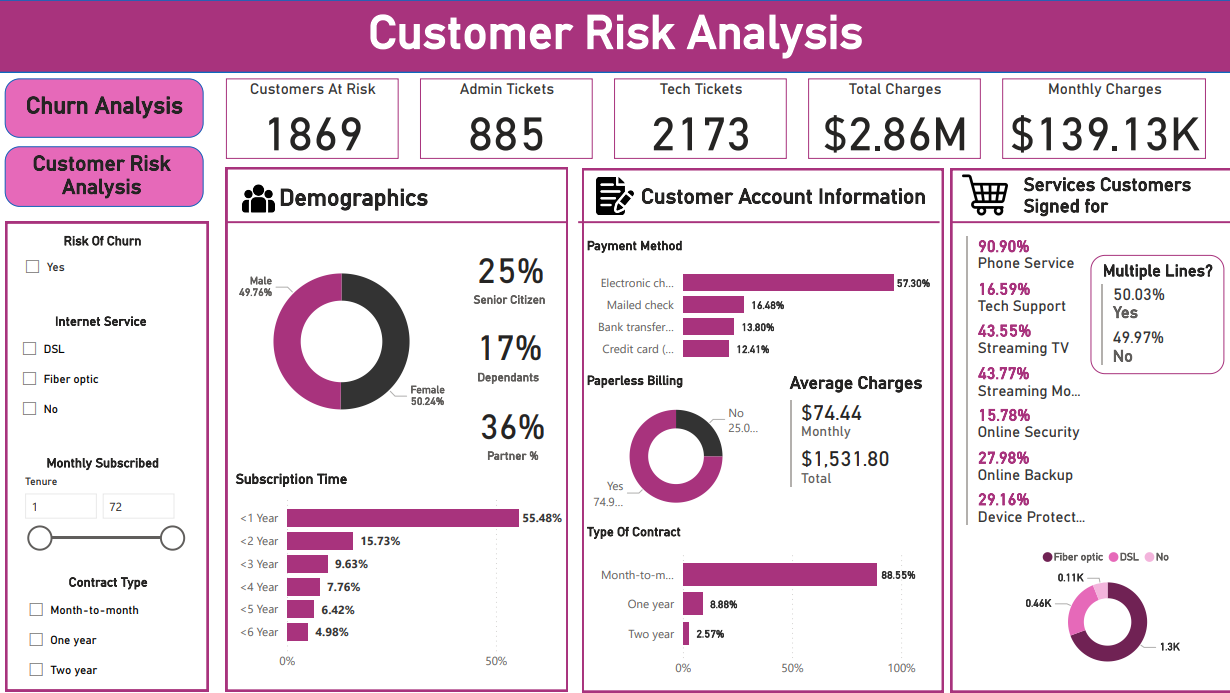

What the dashboard file says about the page in this screenshot:
{"tool":"powerbi","page":{"name":"Risk Analysis","canvas":[1280,720],"ordinal":1},"visuals":[{"type":"shape","box":[0,0,1280,75.1],"z":0},{"type":"textbox","box":[0,0,1280,75.1],"z":1000},{"type":"card","title":"Customers At Risk","fields":{"Values":["Count(01 Churn-Dataset.customerID)"]},"box":[237.5,81.2,177.5,82.5],"z":2000},{"type":"slicer","title":"Contract Type","fields":{"Values":["Churn-Dataset.Contract"]},"box":[22.5,592.5,187.5,127.5],"z":3000},{"type":"shape","box":[10,81.2,205,61.2],"z":4000},{"type":"textbox","box":[22.5,90,180,45],"z":5000},{"type":"shape","box":[10,151.2,205,62.5],"z":6000},{"type":"textbox","box":[10,151.2,200,62.5],"z":7000},{"type":"donutChart","fields":{"Series":["Churn-Dataset.gender"],"Y":["CountNonNull(Churn-Dataset.gender)"]},"box":[238.8,241.2,236.2,222.5],"z":8000},{"type":"donutChart","title":"Paperless Billing","fields":{"Y":["CountNonNull(Churn-Dataset.PaperlessBilling)"],"Series":["Churn-Dataset.PaperlessBilling"]},"box":[605,385,193.8,156.2],"z":9000},{"type":"clusteredBarChart","title":"Type Of Contract","fields":{"Category":["Churn-Dataset.Contract"],"Y":["CountNonNull(Churn-Dataset.customerID)"]},"box":[605,541.2,363.8,166.2],"z":10000},{"type":"donutChart","fields":{"Y":["CountNonNull(Churn-Dataset.InternetService)"],"Category":["Churn-Dataset.InternetService"]},"box":[1046.2,555,201.2,145],"z":11000},{"type":"multiRowCard","fields":{"Values":["Churn-Dataset.Phone Service %","Churn-Dataset.Tech Support %","Churn-Dataset.Streaming TV %","Churn-Dataset.Streaming Movie %","Churn-Dataset.Online Security %","Churn-Dataset.Online Backup %","Churn-Dataset.Device Protection %"]},"box":[996.2,238.8,135,316.2],"z":12000},{"type":"card","fields":{"Values":["Churn-Dataset.Senior Citizen %"]},"box":[472.5,240,117.5,85],"z":13000},{"type":"card","fields":{"Values":["Churn-Dataset.Dependants %"]},"box":[472.3,320,117,85],"z":14000},{"type":"card","fields":{"Values":["Churn-Dataset.Partner %"]},"box":[474.8,401.2,117.5,85],"z":15000},{"type":"barChart","title":"Payment Method ","fields":{"Category":["Churn-Dataset.PaymentMethod"],"Y":["CountNonNull(Churn-Dataset.PaymentMethod)"]},"box":[605,246.2,363.8,137.5],"z":16000},{"type":"multiRowCard","title":"Average Charges","fields":{"Values":["Avg(Churn-Dataset.MonthlyCharges)","Avg(Churn-Dataset.TotalCharges)"]},"box":[813.8,383.8,181.2,133.8],"z":17000},{"type":"barChart","title":"Subscription Time","fields":{"Category":["Churn-Dataset.Tenure(In Years)"],"Y":["CountNonNull(Churn-Dataset.Churn)"]},"box":[242.5,486.2,358.8,213.8],"z":18000},{"type":"slicer","title":"Monthly Subscribed","fields":{"Values":["Churn-Dataset.Tenure"]},"box":[17.5,470,186.2,103.8],"z":19000},{"type":"slicer","title":"Internet Service","fields":{"Values":["Churn-Dataset.InternetService"]},"box":[16.2,323.8,186.2,120],"z":20000},{"type":"slicer","title":"Risk Of Churn","fields":{"Values":["Churn-Dataset.Churn"]},"box":[18.8,241.2,183.8,82.5],"z":21000},{"type":"textbox","box":[287.5,185,246.2,42.5],"z":22000},{"type":"shape","box":[238.8,182.5,351.2,92.5],"z":23000},{"type":"image","box":[242.5,182.5,57.5,42.5],"z":24000},{"type":"shape","box":[601.2,182.5,372.5,92.5],"z":25000},{"type":"shape","box":[237.5,172.5,352.5,540],"z":26000},{"type":"shape","box":[11.2,228.8,208.8,483.8],"z":27000},{"type":"shape","box":[605,173.8,372.5,540],"z":28000},{"type":"shape","box":[985,182.5,291.2,92.5],"z":29000},{"type":"shape","box":[985,173.8,291.2,540],"z":30000},{"type":"image","box":[611.2,177.5,56.2,47.5],"z":31000},{"type":"textbox","box":[661.2,185,307.5,61.2],"z":32000},{"type":"image","box":[985,172.5,70,56.2],"z":33000},{"type":"textbox","box":[1055,173.8,211.2,86.2],"z":34000},{"type":"card","title":"Admin Tickets","fields":{"Values":["Sum(Churn-Dataset.numAdminTickets)"]},"box":[437.5,81.2,177.5,82.5],"z":35000},{"type":"card","title":"Tech Tickets","fields":{"Values":["Sum(Churn-Dataset.numTechTickets)"]},"box":[637.5,81.2,177.5,82.5],"z":36000},{"type":"card","title":"Total Charges","fields":{"Values":["Sum(Churn-Dataset.TotalCharges)"]},"box":[837.5,81.2,177.5,82.5],"z":37000},{"type":"card","title":"Monthly Charges","fields":{"Values":["Sum(Churn-Dataset.MonthlyCharges)"]},"box":[1037.5,81.2,210,82.5],"z":38000},{"type":"multiRowCard","title":"Multiple Lines?","fields":{"Values":["Churn-Dataset.% Yes Multiple Lines","Churn-Dataset.% No Multiple Lines"]},"box":[1128.8,262.5,137.5,122.5],"z":38003},{"type":"actionButton","box":[22.5,90,181.2,45],"z":38004},{"type":"actionButton","box":[17.5,152.5,192.5,53.8],"z":38005}]}

Visuals, with their boxes in screenshot pixels (x1, y1, x2, y2), scaled from the page's 1280x720 canvas onto the 1230x693 screenshot:
shape: 0,0,1229,72
textbox: 0,0,1229,72
"Customers At Risk" card: 228,78,399,158
"Contract Type" slicer: 22,570,202,692
shape: 10,78,207,137
textbox: 22,87,195,130
shape: 10,146,207,206
textbox: 10,146,202,206
donutChart - Churn-Dataset.gender x CountNonNull(Churn-Dataset.gender): 229,232,456,446
"Paperless Billing" donutChart: 581,371,768,521
"Type Of Contract" clusteredBarChart: 581,521,931,681
donutChart - CountNonNull(Churn-Dataset.InternetService) x Churn-Dataset.InternetService: 1005,534,1199,674
multiRowCard - Churn-Dataset.Phone Service % x Churn-Dataset.Tech Support %: 957,230,1087,534
card - Churn-Dataset.Senior Citizen %: 454,231,567,313
card - Churn-Dataset.Dependants %: 454,308,566,390
card - Churn-Dataset.Partner %: 456,386,569,468
"Payment Method " barChart: 581,237,931,369
"Average Charges" multiRowCard: 782,369,956,498
"Subscription Time" barChart: 233,468,578,674
"Monthly Subscribed" slicer: 17,452,196,552
"Internet Service" slicer: 16,312,194,427
"Risk Of Churn" slicer: 18,232,195,312
textbox: 276,178,513,219
shape: 229,176,567,265
image: 233,176,288,217
shape: 578,176,936,265
shape: 228,166,567,686
shape: 11,220,211,686
shape: 581,167,939,687
shape: 947,176,1226,265
shape: 947,167,1226,687
image: 587,171,641,217
textbox: 635,178,931,237
image: 947,166,1014,220
textbox: 1014,167,1217,250
"Admin Tickets" card: 420,78,591,158
"Tech Tickets" card: 613,78,783,158
"Total Charges" card: 805,78,975,158
"Monthly Charges" card: 997,78,1199,158
"Multiple Lines?" multiRowCard: 1085,253,1217,371
actionButton: 22,87,196,130
actionButton: 17,147,202,199
